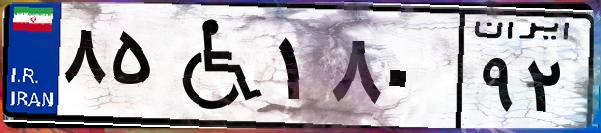0: (385, 28, 445, 110)
1: (270, 28, 330, 110)
2: (525, 38, 570, 115)
5: (110, 28, 158, 98)
8: (330, 28, 385, 110), (57, 26, 110, 100)
9: (475, 38, 525, 113)
ژ (معلولین و جانبازان): (158, 12, 270, 120)
